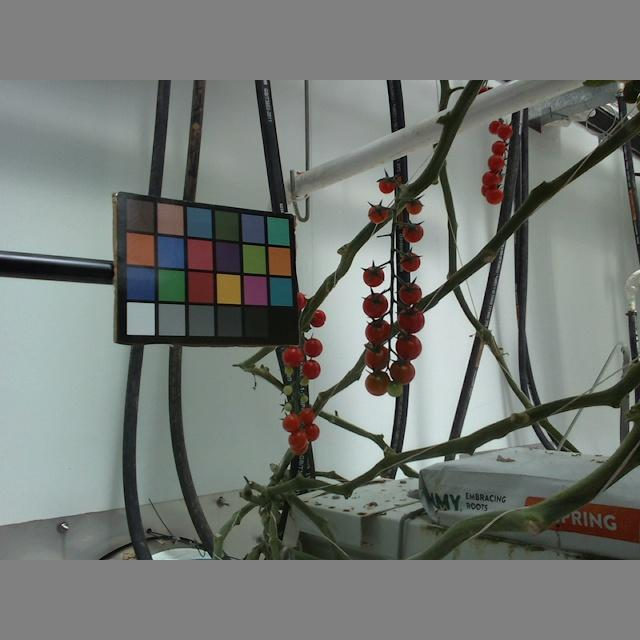pink: (365, 370, 390, 396), (363, 347, 391, 370), (393, 359, 416, 384)
red: (364, 319, 392, 346), (362, 293, 389, 319), (397, 281, 424, 306), (397, 309, 425, 333), (396, 334, 421, 357), (281, 344, 303, 369), (299, 358, 323, 380), (361, 265, 386, 286), (401, 223, 425, 243), (399, 251, 421, 272), (367, 203, 388, 224), (481, 168, 503, 188), (304, 336, 324, 357), (288, 430, 308, 451), (484, 185, 505, 205), (283, 414, 302, 433), (377, 175, 396, 194), (301, 423, 319, 443), (486, 154, 506, 172), (405, 199, 424, 215), (488, 117, 504, 135), (299, 409, 316, 425), (490, 140, 508, 155), (497, 123, 513, 138)
